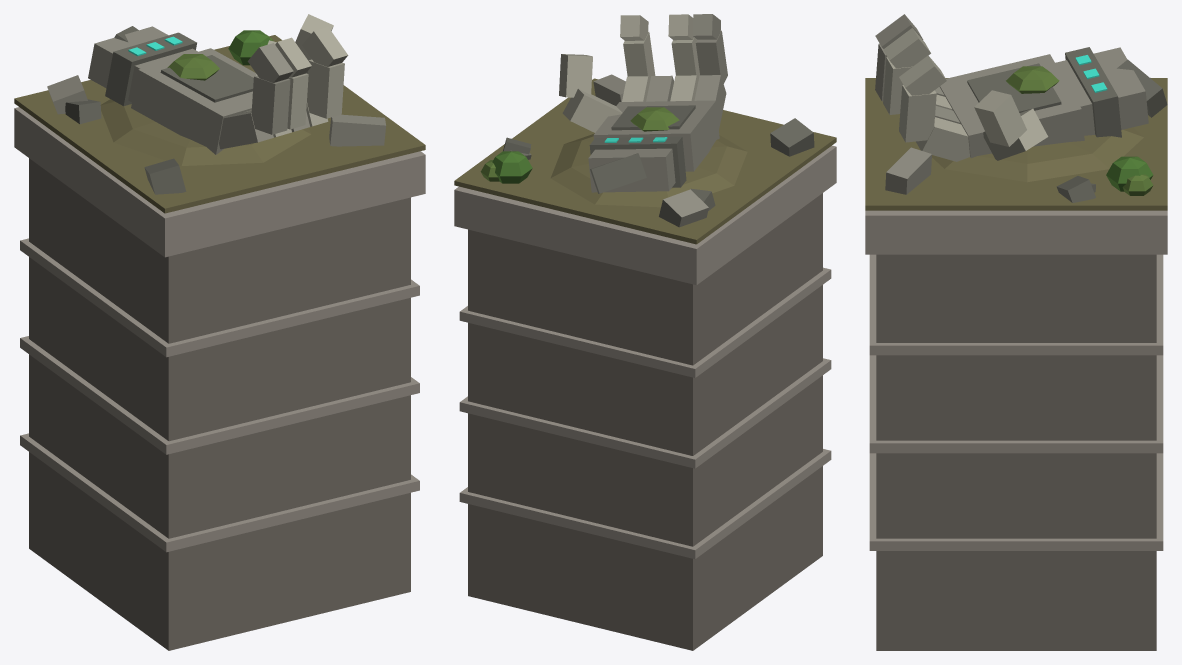
Rendered from decor_colossus_hand.glb.
3 views of the same model, side by side, from view 1: azimuth 30°, elevation 25°; view 2: azimuth 150°, elevation 25°; view 3: azimuth 270°, elevation 25° (orthographic). The views are drawn at different scales.
Visible parts, largest first — view 1: decor_colossus_hand; view 2: decor_colossus_hand; view 3: decor_colossus_hand.
Boxes of the visible parts, box(x1,y1,x2,y2) form: decor_colossus_hand: box(14, 14, 425, 650); decor_colossus_hand: box(454, 14, 836, 650); decor_colossus_hand: box(865, 14, 1167, 650).
Size of the model in its own units: 2.8 by 5.83 by 2.8.
